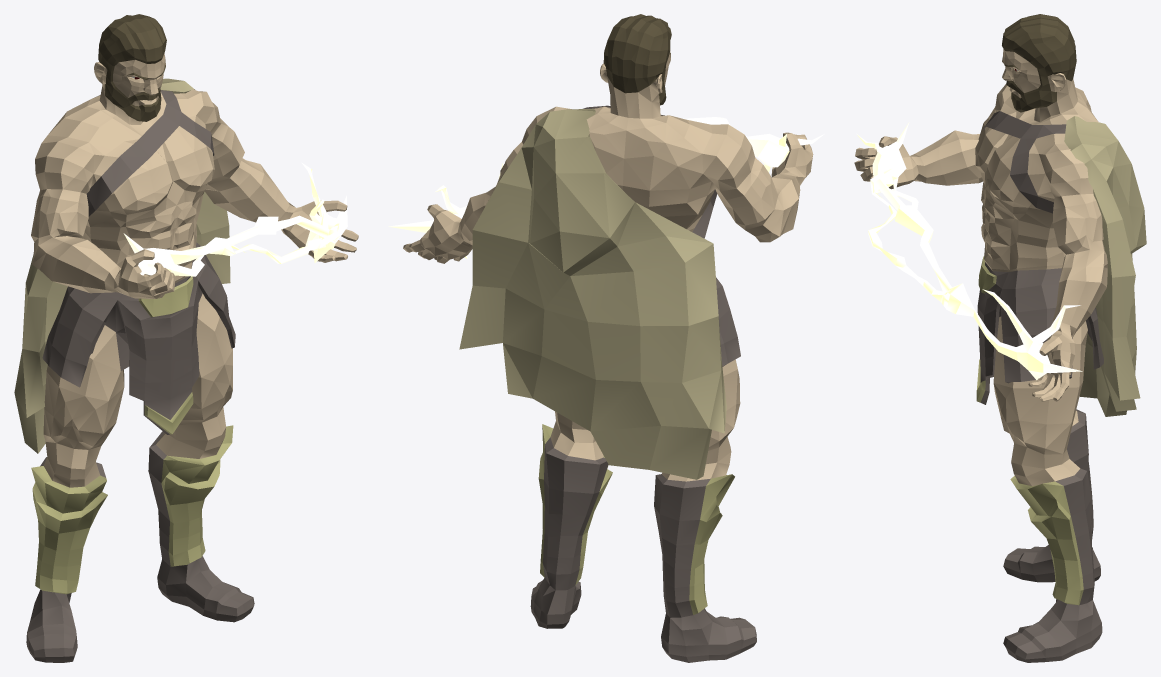
The picture shows the model from 3 angles, left to right: view 1: azimuth 30°, elevation 25°; view 2: azimuth 150°, elevation 25°; view 3: azimuth 270°, elevation 25°; orthographic projection. The views are drawn at different scales.
Visible parts, largest first — view 1: Zeus.obj_SkinTan_0, Zeus.obj_LeatherDark_0, Zeus.obj_Brass_0, Zeus.obj_AresFur_0, Zeus.obj_Lightning_0, Zeus.obj_Hair_0; view 2: Zeus.obj_AresFur_0, Zeus.obj_SkinTan_0, Zeus.obj_LeatherDark_0, Zeus.obj_Hair_0, Zeus.obj_Brass_0, Zeus.obj_Lightning_0; view 3: Zeus.obj_SkinTan_0, Zeus.obj_LeatherDark_0, Zeus.obj_AresFur_0, Zeus.obj_Lightning_0, Zeus.obj_Brass_0, Zeus.obj_Hair_0.
Boxes of the visible parts, box(x1,y1,x2,y2) form: Zeus.obj_SkinTan_0: box(31, 53, 358, 487); Zeus.obj_LeatherDark_0: box(26, 90, 254, 662); Zeus.obj_Brass_0: box(31, 276, 233, 594); Zeus.obj_AresFur_0: box(14, 78, 230, 453); Zeus.obj_Lightning_0: box(123, 162, 347, 276); Zeus.obj_Hair_0: box(98, 14, 166, 121); Zeus.obj_AresFur_0: box(459, 108, 726, 479); Zeus.obj_SkinTan_0: box(403, 51, 813, 481); Zeus.obj_LeatherDark_0: box(530, 105, 756, 662); Zeus.obj_Hair_0: box(603, 14, 671, 105); Zeus.obj_Brass_0: box(538, 424, 734, 614); Zeus.obj_Lightning_0: box(388, 117, 824, 258); Zeus.obj_SkinTan_0: box(854, 49, 1107, 486); Zeus.obj_LeatherDark_0: box(977, 111, 1103, 662); Zeus.obj_AresFur_0: box(1064, 116, 1146, 416); Zeus.obj_Lightning_0: box(856, 122, 1082, 380); Zeus.obj_Brass_0: box(976, 256, 1083, 605); Zeus.obj_Hair_0: box(1002, 14, 1076, 112).
Size of the model in its own units: 179 by 296 by 132.
